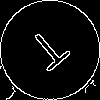T: (25, 25, 78, 80)
